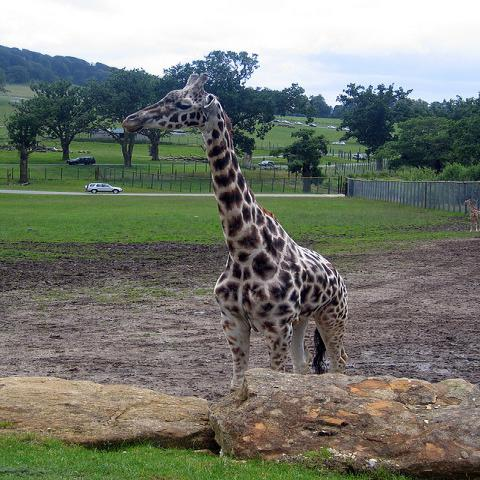car: (84, 183, 123, 193), (66, 156, 96, 166), (258, 160, 274, 166), (331, 140, 347, 146), (352, 153, 366, 159), (341, 125, 350, 131), (327, 125, 336, 129), (294, 121, 303, 125), (310, 123, 317, 127), (282, 120, 290, 123), (274, 120, 282, 122)
